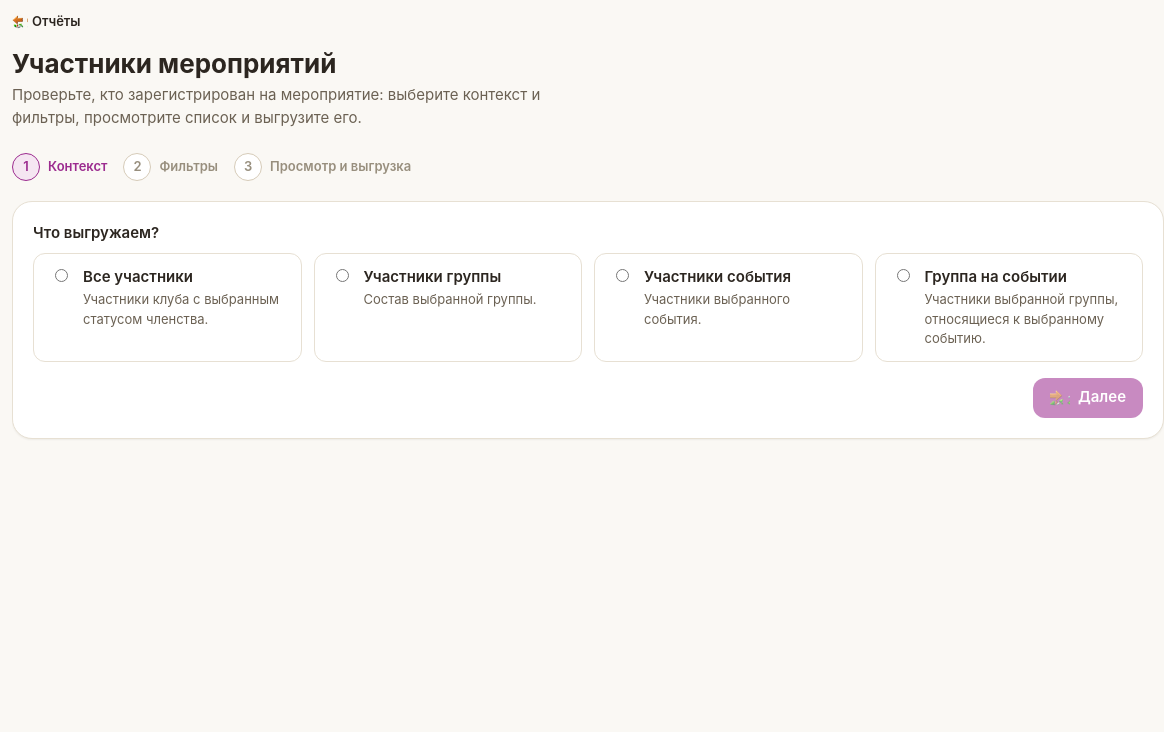
Scenario: «Участники мероприятий» — wizard › requires the Group and Event of a Group + Event report before the preview
Click the radio button labelled "Группа на событии": (903, 275) [896,268,910,282]
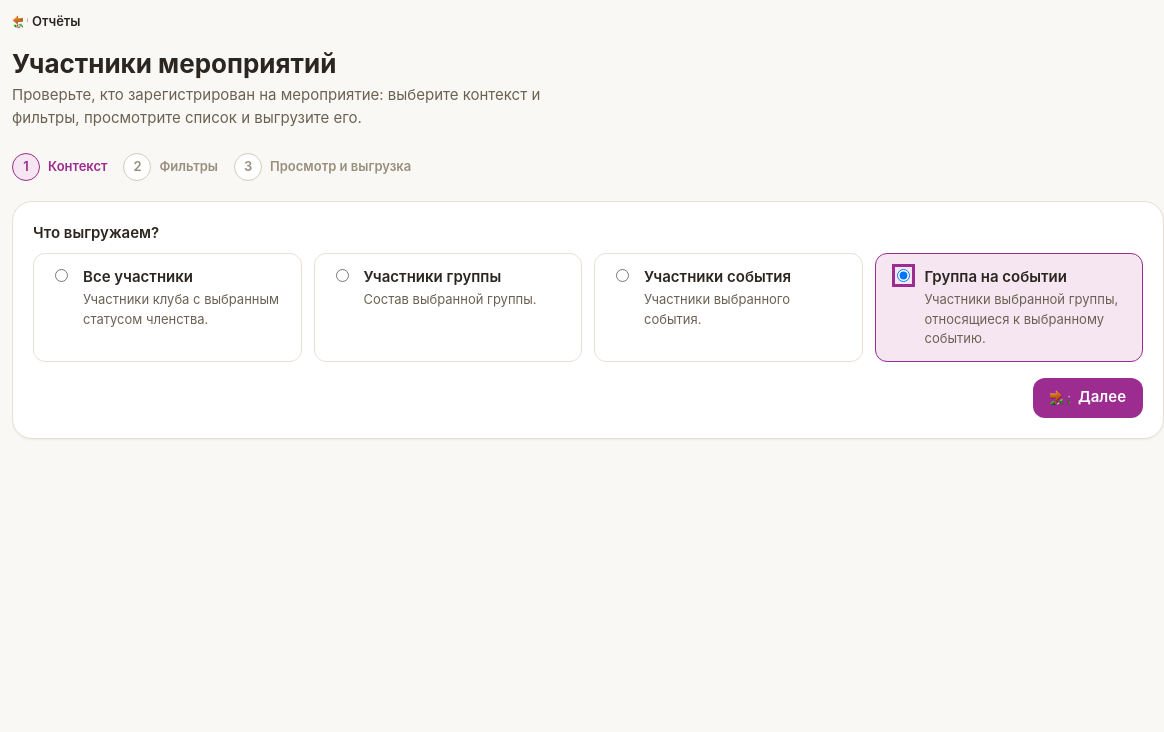
Click the button "Далее": (1088, 398) [1033,378,1143,418]
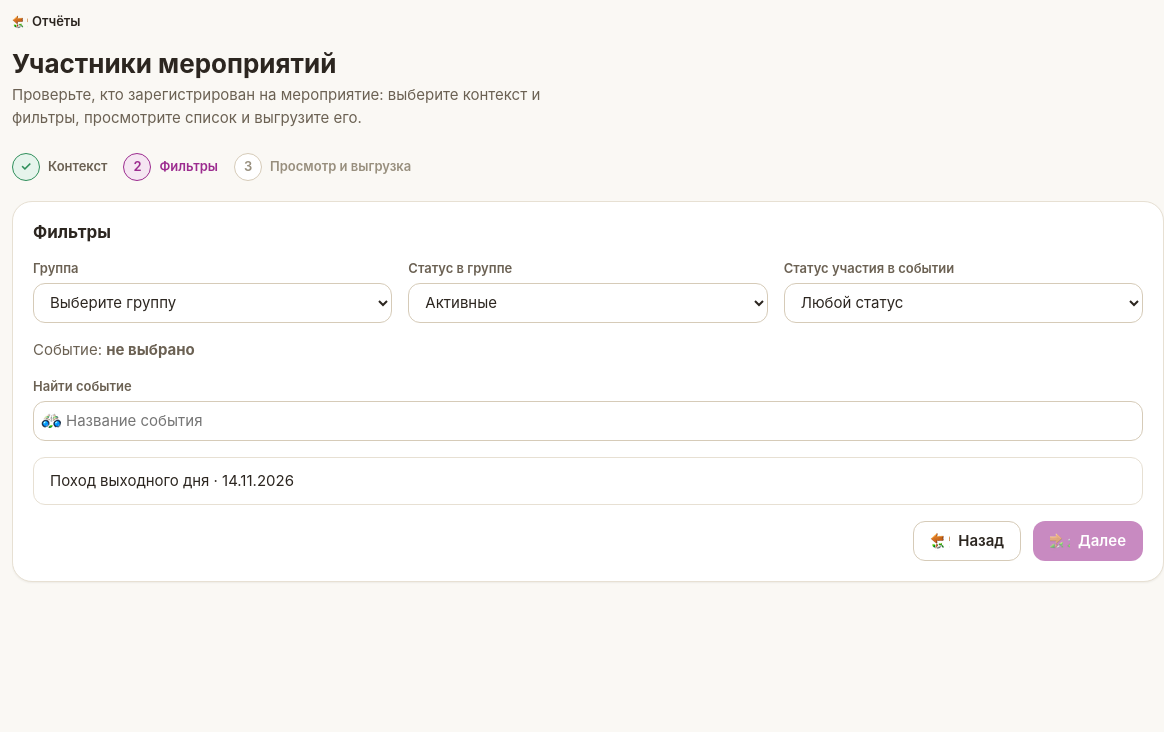
Expected: the dropdown labelled "Статус участия в событии" is shown, [784,283,1143,323]
Expected: the button "Далее" is disabled, [1033,521,1143,561]
Select "Юные туристы" in the dropdown labelled "Группа": (213, 303) [33,283,392,323]
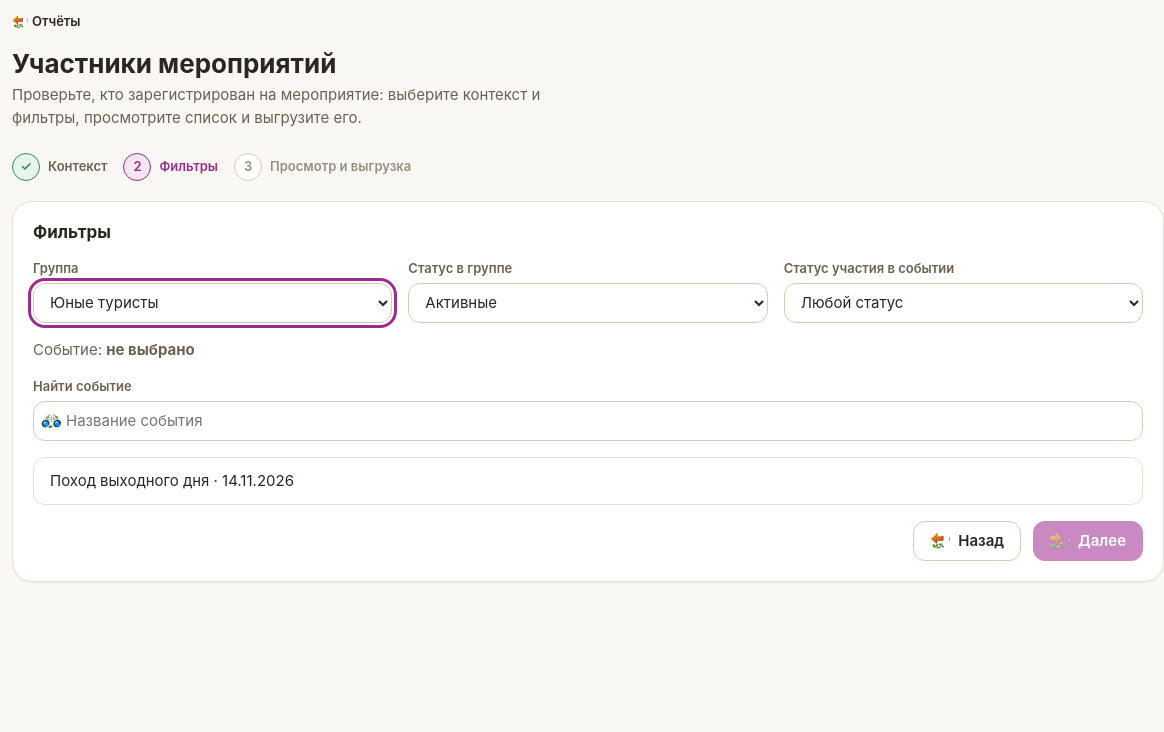
Expected: the button "Далее" is disabled, [1033,521,1143,561]
Click the button "Поход выходного дня · 14.11.2026": (130, 480) [38,462,1138,500]
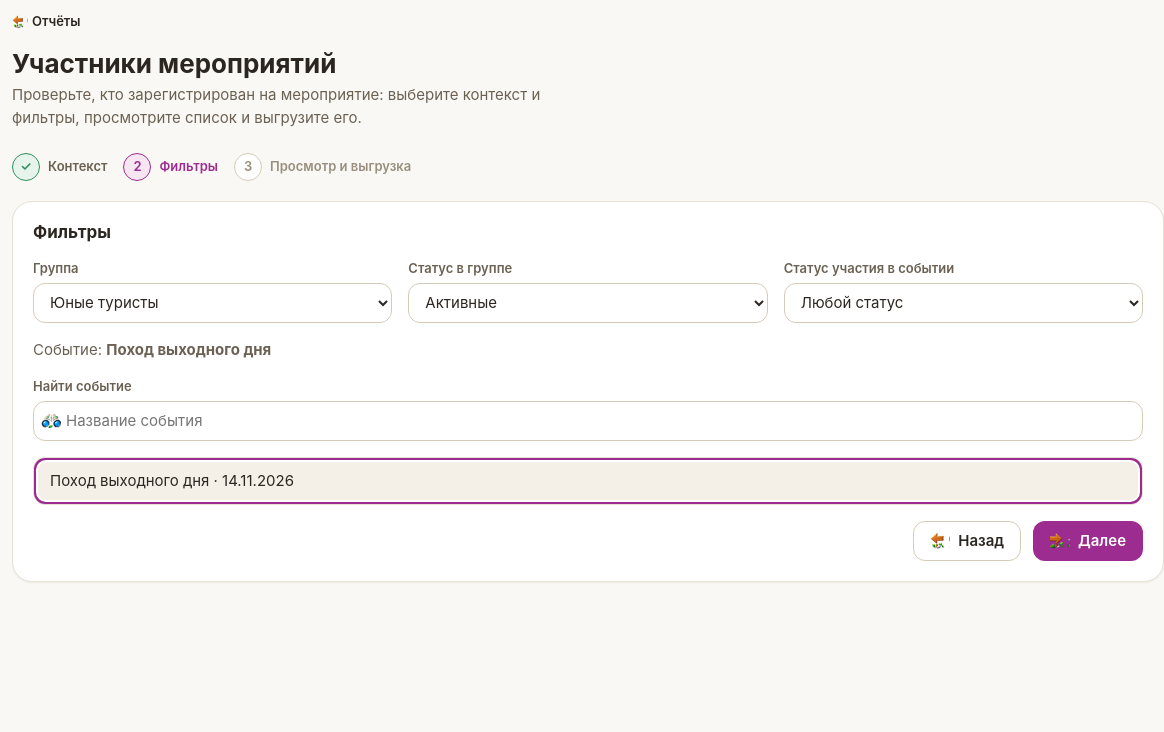
Expected: the button "Далее" is enabled, [1033,521,1143,561]
